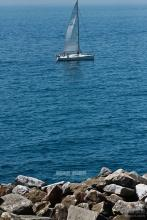fanchuan: (50, 1, 104, 67)
